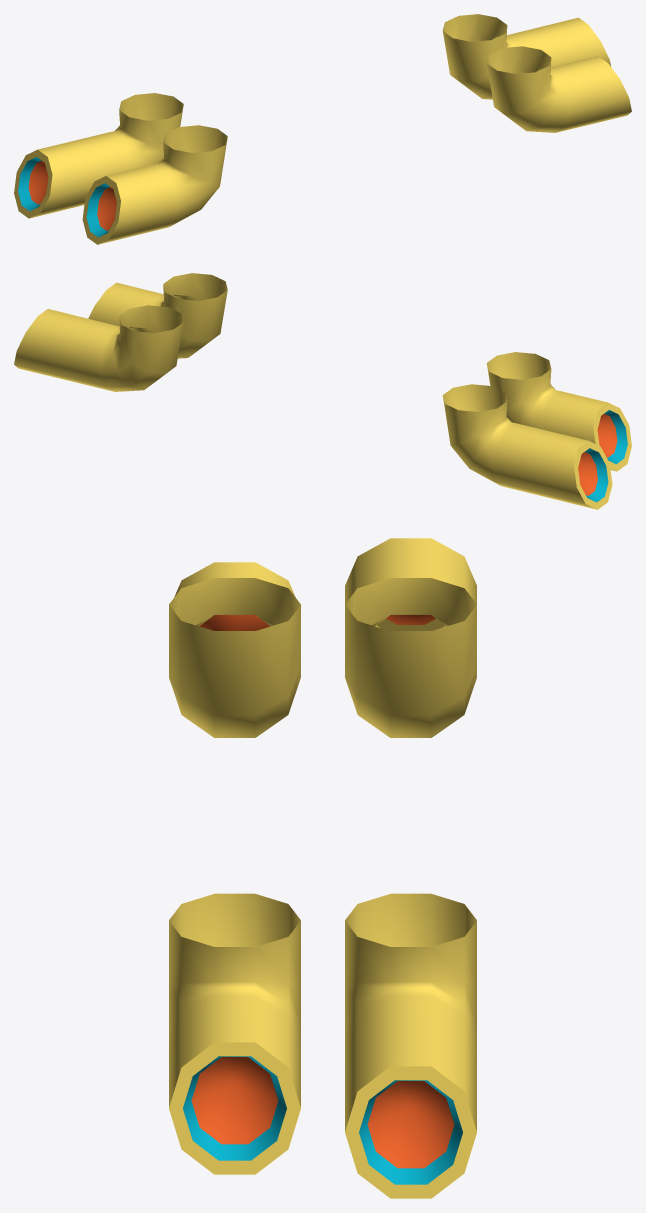
File: Car_14_Turbine.fbx
3 renders of one model, top to bottom at view 1: azimuth 30°, elevation 25°; view 2: azimuth 150°, elevation 25°; view 3: azimuth 270°, elevation 25°, orthographic. The views are drawn at different scales.
Parts seen in each view (by area): view 1: Car_14_Turbine; view 2: Car_14_Turbine; view 3: Car_14_Turbine.
Boxes of the visible parts, x1,y1,x2,y2 form: Car_14_Turbine: [14, 14, 631, 244]; Car_14_Turbine: [14, 273, 631, 509]; Car_14_Turbine: [169, 538, 476, 1198].
Bounding box in the file's own units: 255 × 58.77 × 32.33.
